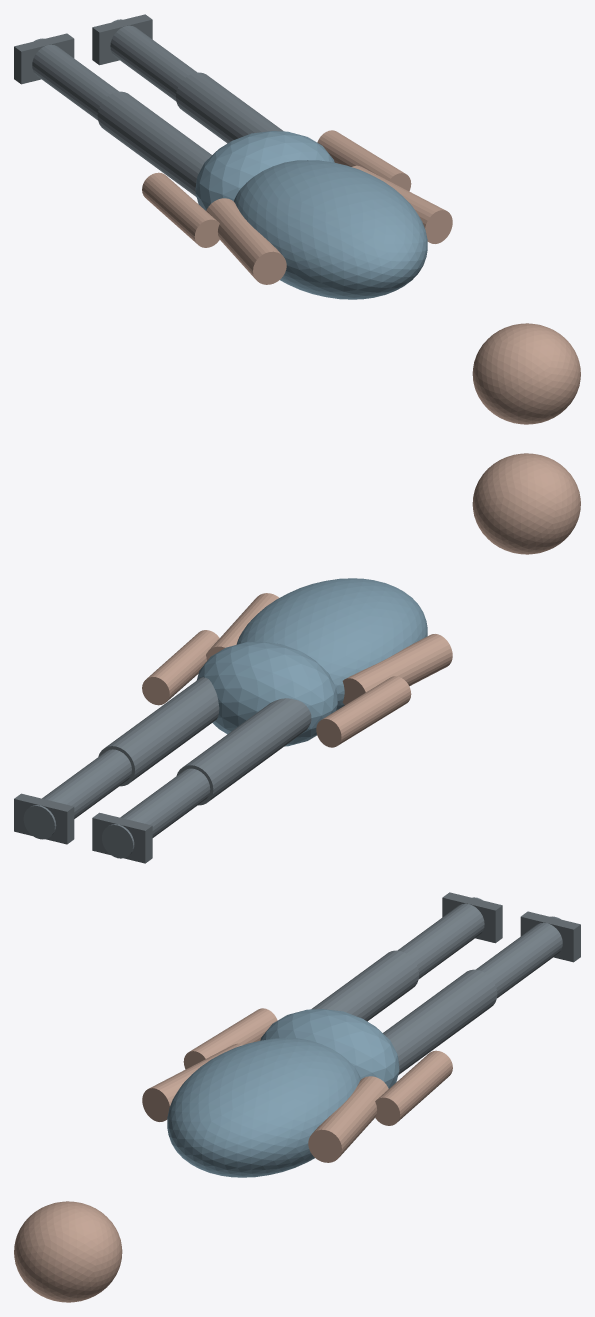
Rendered from adult-high.glb.
3 views of the same model, one above another, from view 1: azimuth 30°, elevation 25°; view 2: azimuth 150°, elevation 25°; view 3: azimuth 330°, elevation 25° (orthographic).
Visible parts, largest first — view 1: torso, head, left_thigh, pelvis, right_thigh, left_upper_arm, right_lower_leg, left_lower_leg, left_forearm, right_forearm, right_upper_arm, right_foot (+1 smaller); view 2: torso, head, pelvis, left_thigh, right_thigh, left_lower_leg, right_lower_leg, left_upper_arm, left_forearm, right_forearm, left_foot, right_foot (+1 smaller); view 3: torso, head, right_thigh, pelvis, left_thigh, right_upper_arm, left_lower_leg, right_lower_leg, right_forearm, left_forearm, left_upper_arm, left_foot (+1 smaller).
Part boxes in pixels (bbox=[...]): torso: bbox=[234, 160, 427, 299]; head: bbox=[472, 323, 580, 424]; left_thigh: bbox=[97, 91, 211, 196]; pelvis: bbox=[195, 131, 334, 210]; right_thigh: bbox=[176, 72, 283, 143]; left_upper_arm: bbox=[206, 198, 286, 284]; right_lower_leg: bbox=[110, 19, 197, 100]; left_lower_leg: bbox=[32, 38, 118, 120]; left_forearm: bbox=[142, 172, 219, 247]; right_forearm: bbox=[317, 130, 411, 191]; right_upper_arm: bbox=[352, 165, 452, 243]; right_foot: bbox=[92, 14, 152, 65]; torso: bbox=[236, 578, 427, 710]; head: bbox=[472, 453, 580, 554]; pelvis: bbox=[196, 641, 337, 746]; left_thigh: bbox=[176, 698, 311, 805]; right_thigh: bbox=[98, 677, 219, 786]; left_lower_leg: bbox=[102, 768, 210, 858]; right_lower_leg: bbox=[23, 749, 131, 839]; left_upper_arm: bbox=[342, 634, 452, 704]; left_forearm: bbox=[316, 676, 411, 747]; right_forearm: bbox=[142, 630, 219, 705]; left_foot: bbox=[92, 812, 152, 863]; right_foot: bbox=[14, 793, 74, 844]; torso: bbox=[167, 1038, 360, 1177]; head: bbox=[14, 1201, 122, 1302]; right_thigh: bbox=[383, 969, 497, 1074]; pelvis: bbox=[260, 1009, 399, 1088]; left_thigh: bbox=[311, 950, 418, 1021]; right_upper_arm: bbox=[308, 1076, 388, 1162]; left_lower_leg: bbox=[397, 897, 484, 978]; right_lower_leg: bbox=[476, 916, 562, 998]; right_forearm: bbox=[375, 1050, 452, 1125]; left_forearm: bbox=[183, 1008, 277, 1069]; left_upper_arm: bbox=[142, 1043, 242, 1121]; left_foot: bbox=[442, 892, 502, 943].
Size of the model in its own units: 1.38 by 0.6 by 5.26.
